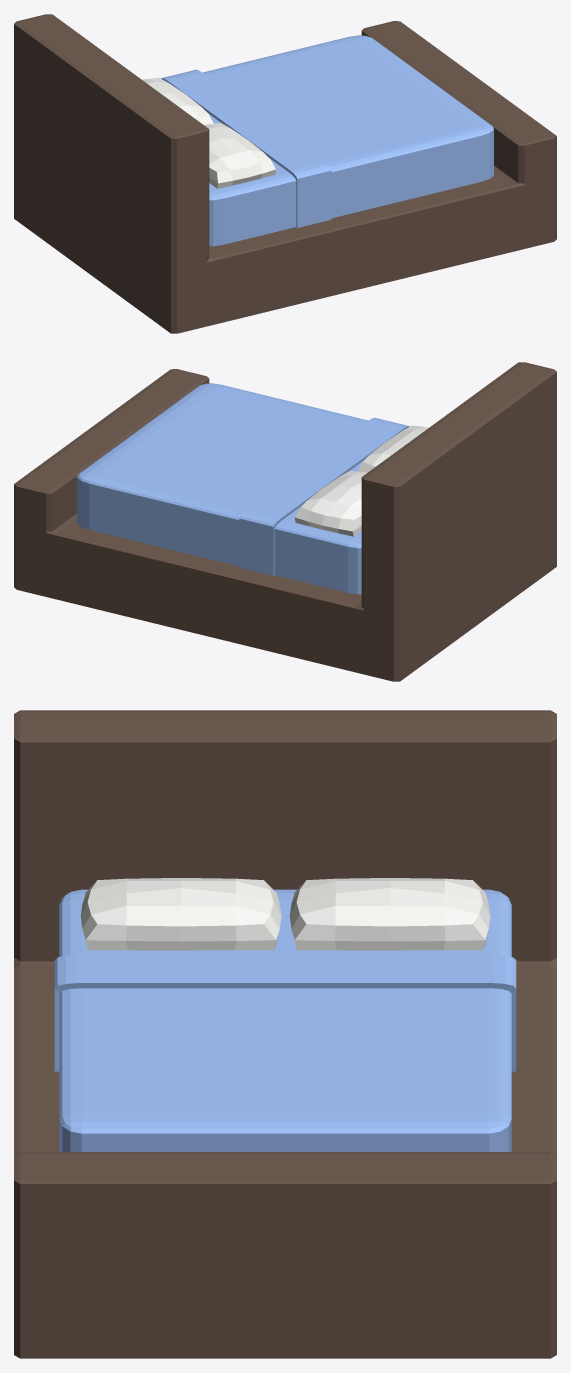
Rendered from CamaMatrimonial_02.fbx.
The picture shows the model from 3 angles, top to bottom: view 1: azimuth 30°, elevation 25°; view 2: azimuth 150°, elevation 25°; view 3: azimuth 270°, elevation 25°; orthographic projection. The views are drawn at different scales.
Parts seen in each view (by area): view 1: CamaMatrimonial_02; view 2: CamaMatrimonial_02; view 3: CamaMatrimonial_02.
Boxes of the visible parts, box(x1,y1,x2,y2) form: CamaMatrimonial_02: box(14, 14, 556, 333); CamaMatrimonial_02: box(14, 362, 556, 681); CamaMatrimonial_02: box(14, 710, 556, 1358).
Bounding box in the file's own units: 250 × 121 × 180.
